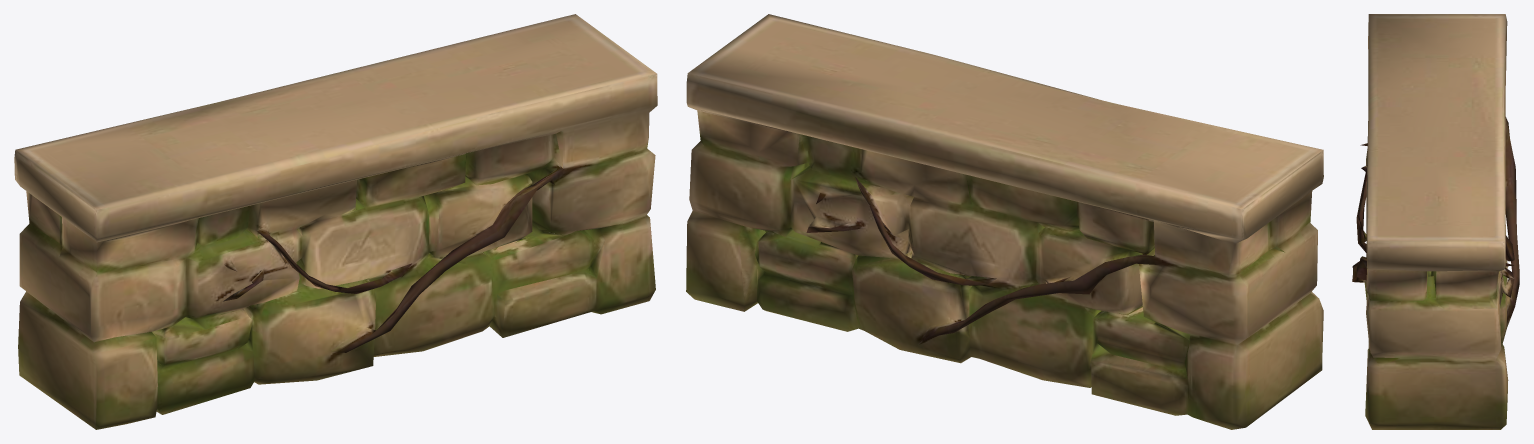
The model's file is el_muro_terra.glb.
3 views of the same model, side by side, from view 1: azimuth 30°, elevation 25°; view 2: azimuth 150°, elevation 25°; view 3: azimuth 270°, elevation 25° (orthographic). The views are drawn at different scales.
Parts seen in each view (by area): view 1: baixa; view 2: baixa; view 3: baixa.
Boxes of the visible parts, <box> form: baixa: <box>14,14,657,429</box>; baixa: <box>686,14,1323,429</box>; baixa: <box>1352,14,1519,429</box>.
Size of the model in its own units: 1 by 0.3896 by 0.3109.
1 material, 1 textured.
